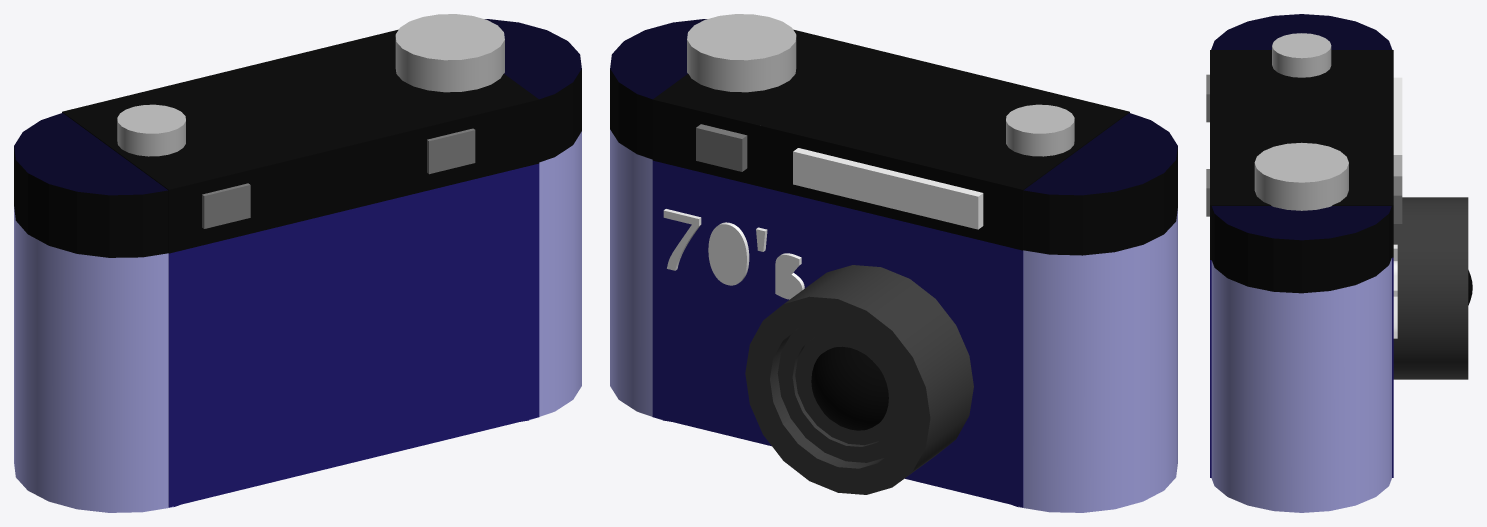
The model's file is camera.obj.
The picture shows the model from 3 angles, left to right: view 1: azimuth 30°, elevation 25°; view 2: azimuth 150°, elevation 25°; view 3: azimuth 270°, elevation 25°; orthographic projection. The views are drawn at different scales.
Parts seen in each view (by area): view 1: polySurface3, pCylinder9, pCylinder10, pCube3, pCube4; view 2: polySurface3, polySurface5 pSphere2, pCylinder9, pCube5, pSphere2 polySurface4, typeMesh1, pCylinder10, pCube2; view 3: polySurface3, polySurface5 pSphere2, pCylinder9, pCylinder10, pCube5, pCube2, typeMesh1.
Boxes of the visible parts, x1,y1,x2,y2 form: polySurface3: (14, 19, 581, 512); pCylinder9: (395, 14, 504, 92); pCylinder10: (117, 104, 185, 156); pCube3: (427, 128, 475, 174); pCube4: (202, 183, 250, 228); polySurface3: (610, 19, 1177, 512); polySurface5 pSphere2: (745, 265, 973, 494); pCylinder9: (687, 14, 796, 92); pCube5: (793, 148, 983, 229); pSphere2 polySurface4: (811, 346, 888, 430); typeMesh1: (663, 209, 804, 299); pCylinder10: (1006, 104, 1074, 156); pCube2: (696, 124, 747, 171); polySurface3: (1210, 14, 1393, 512); polySurface5 pSphere2: (1393, 197, 1468, 379); pCylinder9: (1254, 142, 1348, 210); pCylinder10: (1272, 33, 1331, 77); pCube5: (1393, 77, 1402, 176); pCube2: (1393, 176, 1402, 223); typeMesh1: (1393, 244, 1397, 338).
Size of the model in its own units: 5.84 by 3.62 by 2.9.
